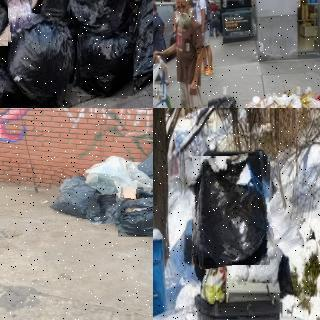Garbage: (189, 154, 274, 267), (5, 12, 73, 108), (75, 30, 135, 98), (48, 169, 97, 219), (67, 0, 131, 34), (116, 190, 153, 239), (89, 194, 129, 226), (206, 94, 237, 108)
